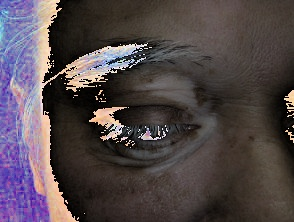vitiligo: (91, 0, 244, 222)
